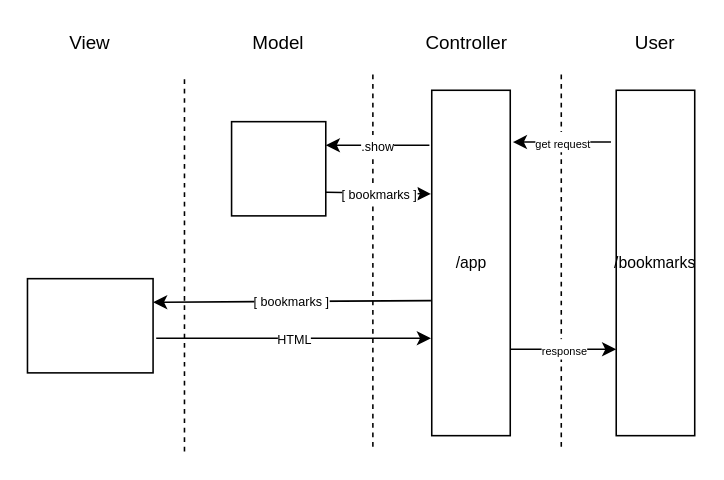
Some shapes in this 724 by 480 pixel diagram are drawn without their labels. The shapes that lost their labels are listed below. From the top down, each one's centre as x and y in pixels, then its label:
At point (278, 168): "Bookmarks".
At point (89, 325): "erb :bookmarks".
